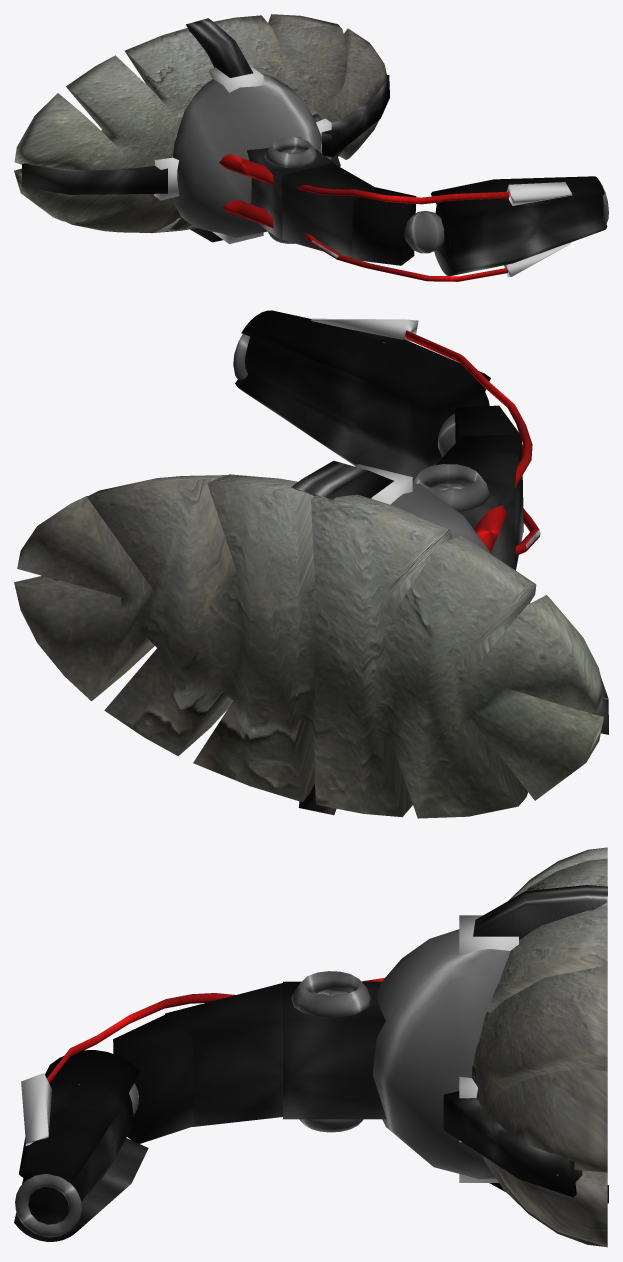
File: canon.fbx
3 renders of one model, top to bottom at view 1: azimuth 30°, elevation 25°; view 2: azimuth 150°, elevation 25°; view 3: azimuth 270°, elevation 25°, orthographic. The views are drawn at different scales.
Visible parts, largest first — view 1: Esfera_002, Esfera_001, Cilindro, Cubo_030, Cubo_001, Cubo_027, Cubo_000, Cubo_033, Esfera_004, Cubo_035, Esfera_003, Cubo_036 (+5 smaller); view 2: Esfera_002, Cilindro, Cubo_030, Cubo_027, Esfera_003, Esfera_001, Cubo_033, Cubo_036, Cubo_007, Cubo_029; view 3: Esfera_002, Cubo_030, Esfera_001, Cilindro, Cubo_000, Cubo_027, Esfera_003, Torus, Cubo_036, Cubo_033, Cubo_007, Esfera.
Part boxes in pixels (<box>): Esfera_002: <box>14,14,386,233</box>; Esfera_001: <box>172,73,321,237</box>; Cilindro: <box>431,176,607,276</box>; Cubo_030: <box>247,137,416,265</box>; Cubo_001: <box>22,163,167,194</box>; Cubo_027: <box>186,18,253,242</box>; Cubo_000: <box>321,75,389,157</box>; Cubo_033: <box>297,185,509,204</box>; Esfera_004: <box>404,211,444,253</box>; Cubo_035: <box>305,233,507,281</box>; Esfera_003: <box>264,137,317,167</box>; Cubo_036: <box>506,182,572,205</box>; Esfera_002: <box>14,474,604,818</box>; Cilindro: <box>235,310,490,479</box>; Cubo_030: <box>436,405,523,570</box>; Cubo_027: <box>291,460,393,815</box>; Esfera_003: <box>412,464,490,511</box>; Esfera_001: <box>390,483,490,553</box>; Cubo_033: <box>405,330,532,486</box>; Cubo_036: <box>311,318,418,341</box>; Cubo_007: <box>355,464,412,504</box>; Cubo_029: <box>474,505,506,552</box>; Esfera_002: <box>471,847,607,1247</box>; Cubo_030: <box>113,981,386,1143</box>; Esfera_001: <box>372,929,510,1178</box>; Cilindro: <box>14,1050,148,1241</box>; Cubo_000: <box>443,1091,582,1197</box>; Cubo_027: <box>473,885,608,1203</box>; Esfera_003: <box>291,971,371,1017</box>; Torus: <box>15,1173,81,1237</box>; Cubo_036: <box>21,1073,51,1145</box>; Cubo_033: <box>47,993,235,1083</box>; Cubo_007: <box>459,915,518,955</box>; Esfera: <box>299,1119,363,1132</box>.
Size of the model in its own units: 3.12 by 1.49 by 2.62.
